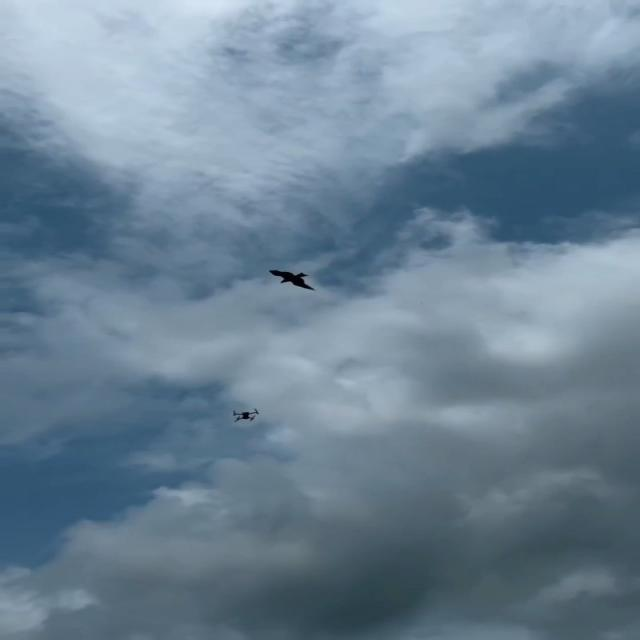bird: (268, 269, 314, 291)
drone: (232, 408, 259, 422)
